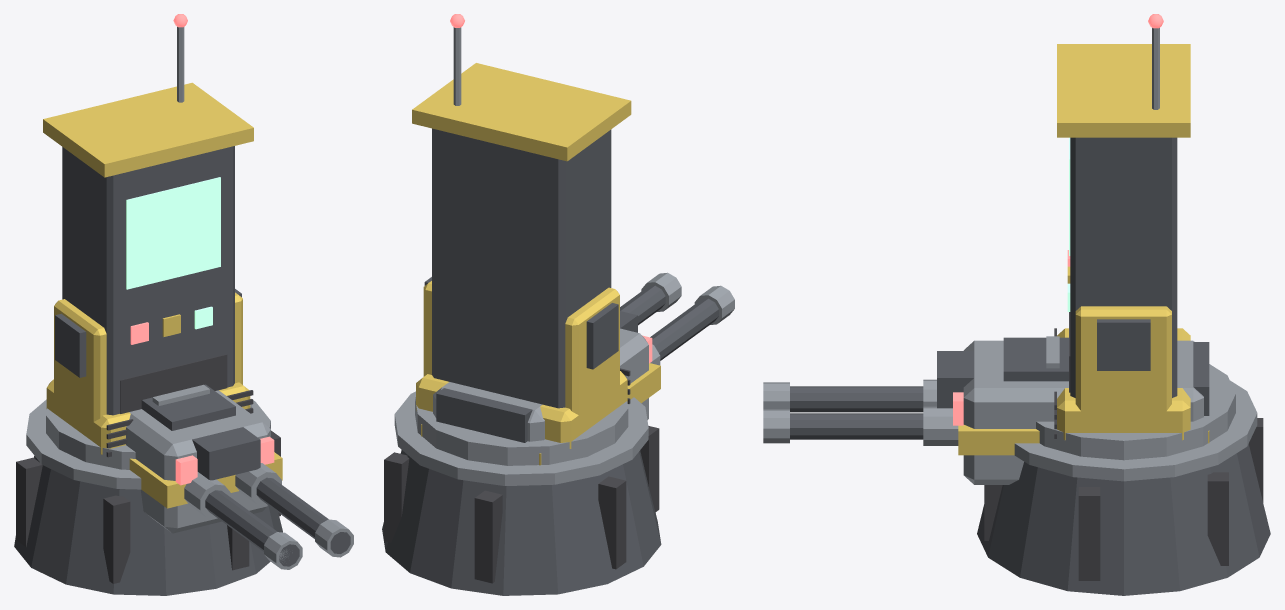
The model's file is turret.glb.
The picture shows the model from 3 angles, left to right: view 1: azimuth 30°, elevation 25°; view 2: azimuth 150°, elevation 25°; view 3: azimuth 270°, elevation 25°; orthographic projection. The views are drawn at different scales.
Parts seen in each view (by area): view 1: tu_panel_mesh, tu_base_mesh, tu_gun_mesh, tu_yoke_mesh; view 2: tu_panel_mesh, tu_base_mesh, tu_yoke_mesh, tu_gun_mesh; view 3: tu_base_mesh, tu_panel_mesh, tu_gun_mesh, tu_yoke_mesh.
Boxes of the visible parts, x1,y1,x2,y2 form: tu_panel_mesh: (43,14,253,415); tu_base_mesh: (14,399,282,595); tu_gun_mesh: (126,384,353,569); tu_yoke_mesh: (46,289,253,469); tu_panel_mesh: (412,14,631,408); tu_base_mesh: (382,391,661,595); tu_yoke_mesh: (415,277,630,465); tu_gun_mesh: (421,272,734,465); tu_base_mesh: (977,380,1270,595); tu_panel_mesh: (1057,14,1190,397); tu_gun_mesh: (763,336,1209,484); tu_yoke_mesh: (1036,306,1235,460).
Bounding box in the file's own units: 1.1 × 2.25 × 1.9.
